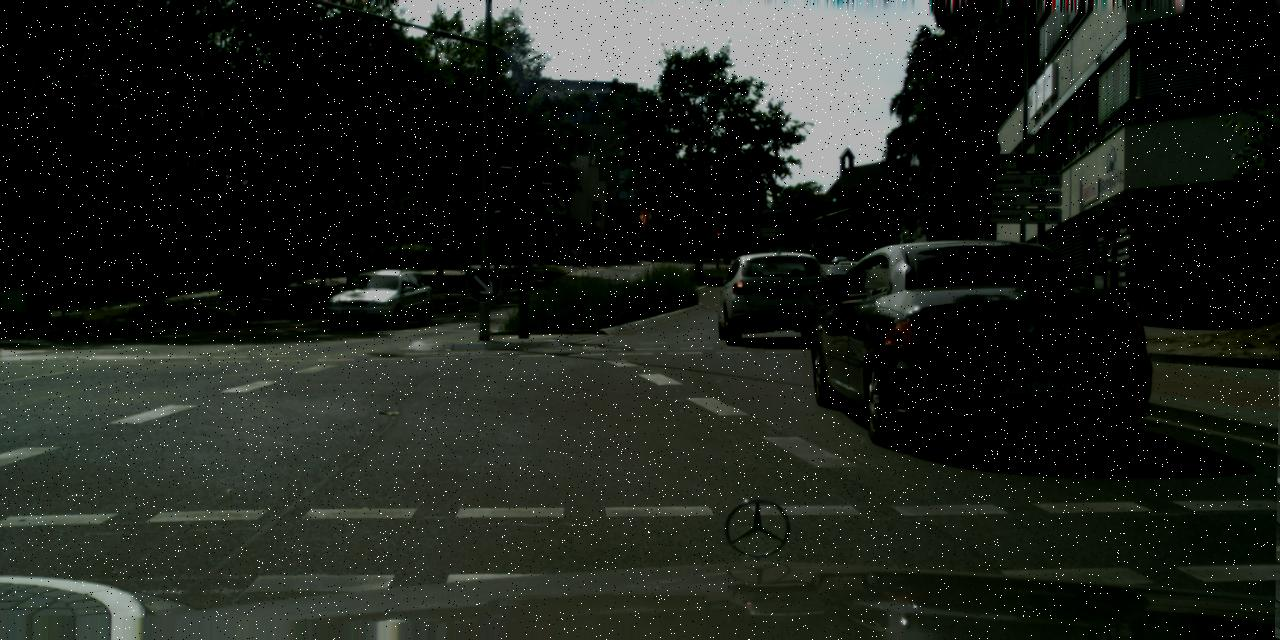ped: (318, 239, 334, 281), (570, 243, 587, 269), (553, 243, 565, 264)
